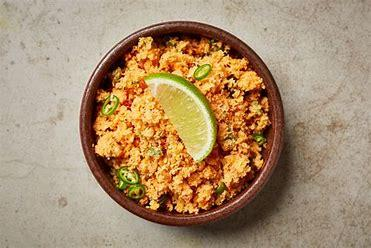Pol Sambol: (113, 42, 257, 209)
